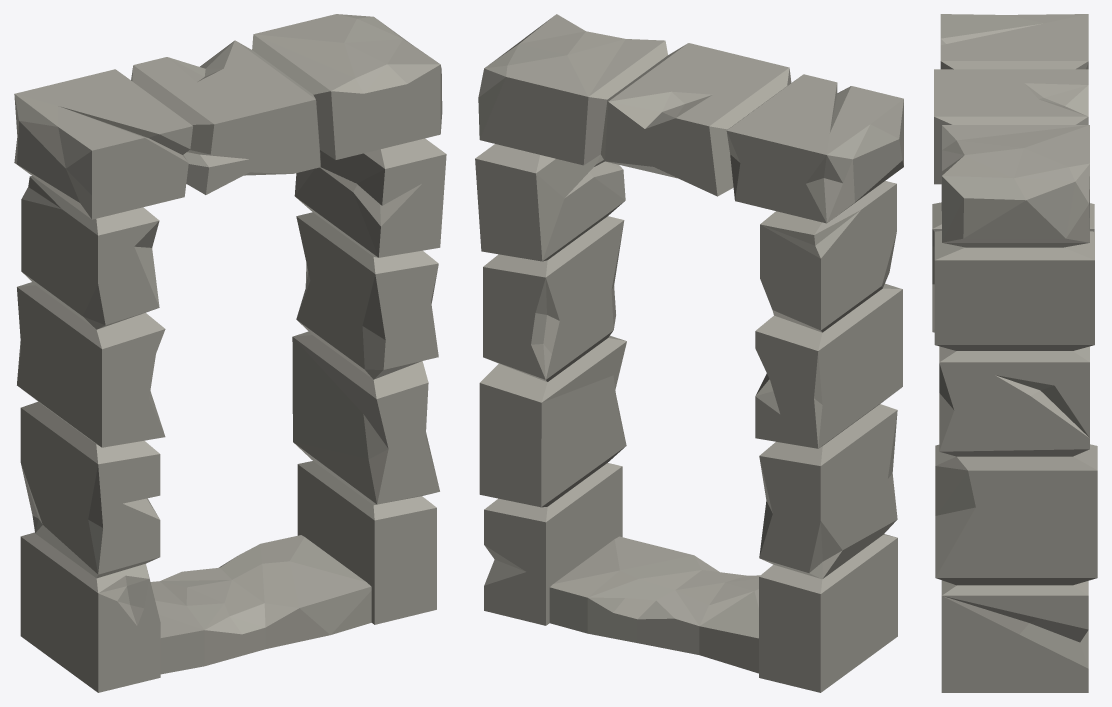
File: rpgpp_ag_door_frame_07.fbx
3 renders of one model, left to right at view 1: azimuth 30°, elevation 25°; view 2: azimuth 150°, elevation 25°; view 3: azimuth 270°, elevation 25°, orthographic. The views are drawn at different scales.
Visible parts, largest first — view 1: rpgpp_ag_door_frame_07; view 2: rpgpp_ag_door_frame_07; view 3: rpgpp_ag_door_frame_07.
Part boxes in pixels (left/top/right/bottom): rpgpp_ag_door_frame_07: left=14, top=14, right=446, bottom=692; rpgpp_ag_door_frame_07: left=475, top=14, right=903, bottom=692; rpgpp_ag_door_frame_07: left=932, top=14, right=1097, bottom=692.
Size of the model in its own units: 2.17 by 2.99 by 0.8605.
